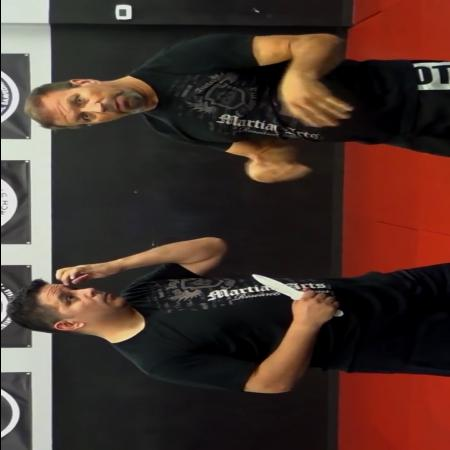long weapon: (243, 270, 350, 322)
